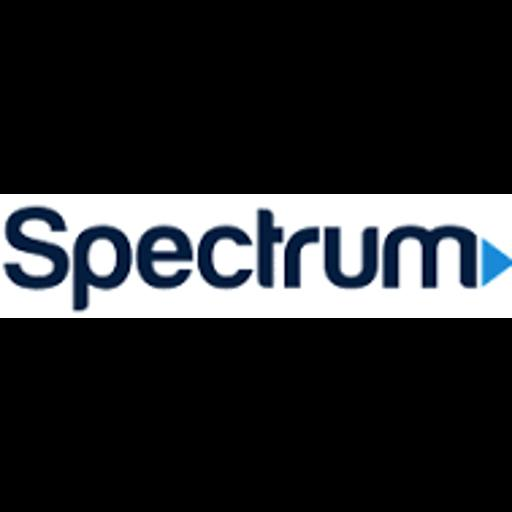Spectrum: (0, 194, 512, 318)
